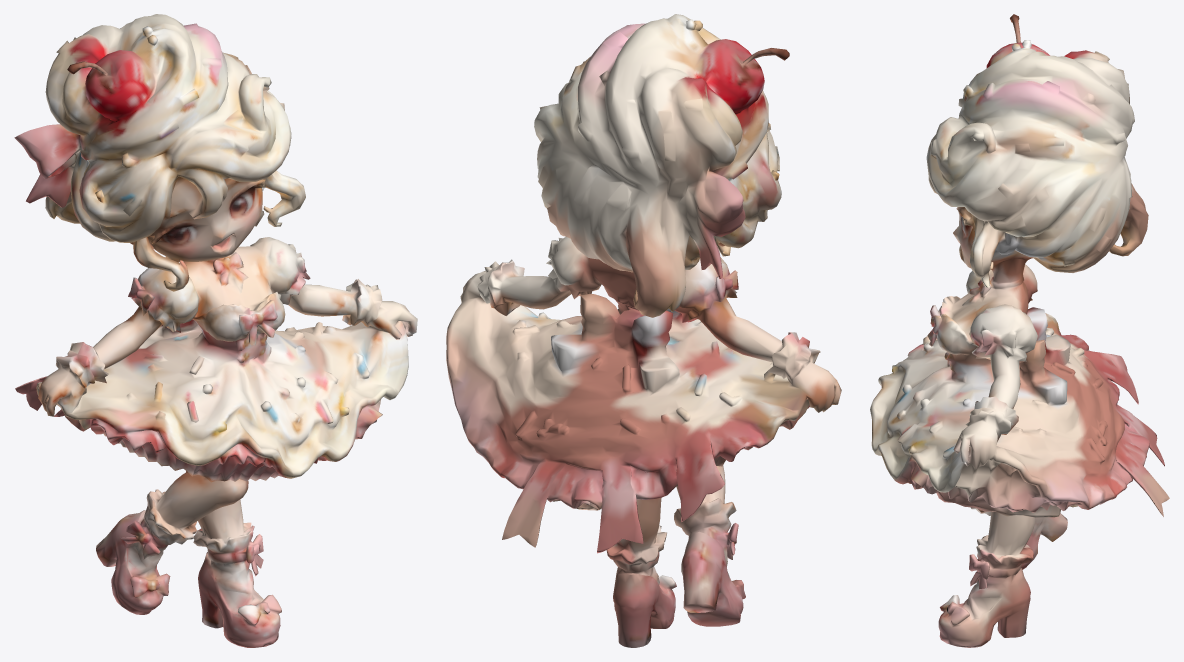
The model's file is cupcake_painted.glb.
3 views of the same model, side by side, from view 1: azimuth 30°, elevation 25°; view 2: azimuth 150°, elevation 25°; view 3: azimuth 270°, elevation 25° (orthographic). The views are drawn at different scales.
Visible parts, largest first — view 1: Body; view 2: Body; view 3: Body.
Boxes of the visible parts, x1,y1,x2,y2 form: Body: (14, 14, 417, 647); Body: (446, 14, 841, 647); Body: (870, 14, 1169, 647).
Size of the model in its own units: 0.6141 by 0.9944 by 0.4766.
Materials: 1 (1 with a texture image).
